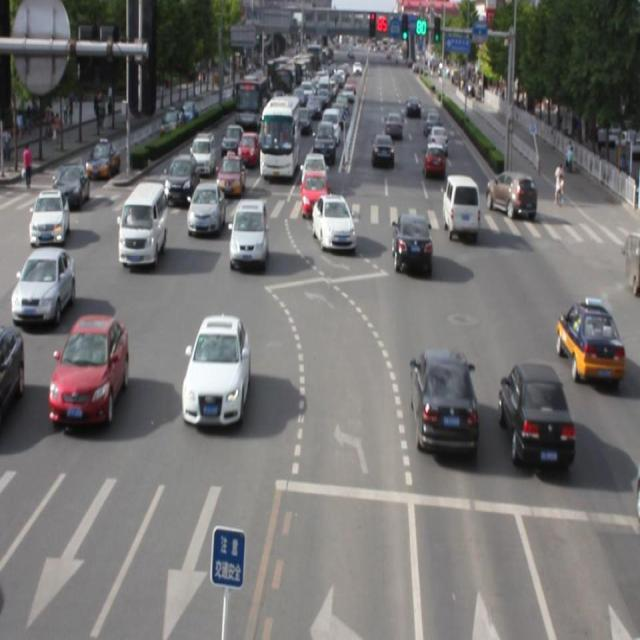car: (48, 314, 128, 430), (499, 361, 572, 467), (180, 314, 249, 424), (410, 348, 477, 453), (557, 300, 622, 378), (229, 197, 267, 264), (392, 212, 432, 273), (312, 194, 354, 249), (187, 182, 224, 236)
truck: (120, 182, 167, 265), (441, 174, 479, 237)
